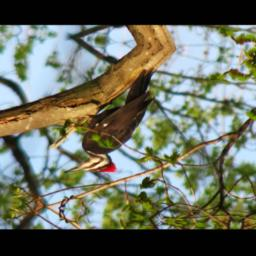Woodpecker: (58, 59, 163, 185)
